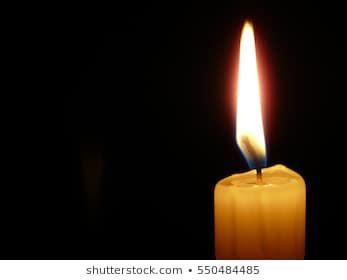fire: (231, 16, 267, 170)
